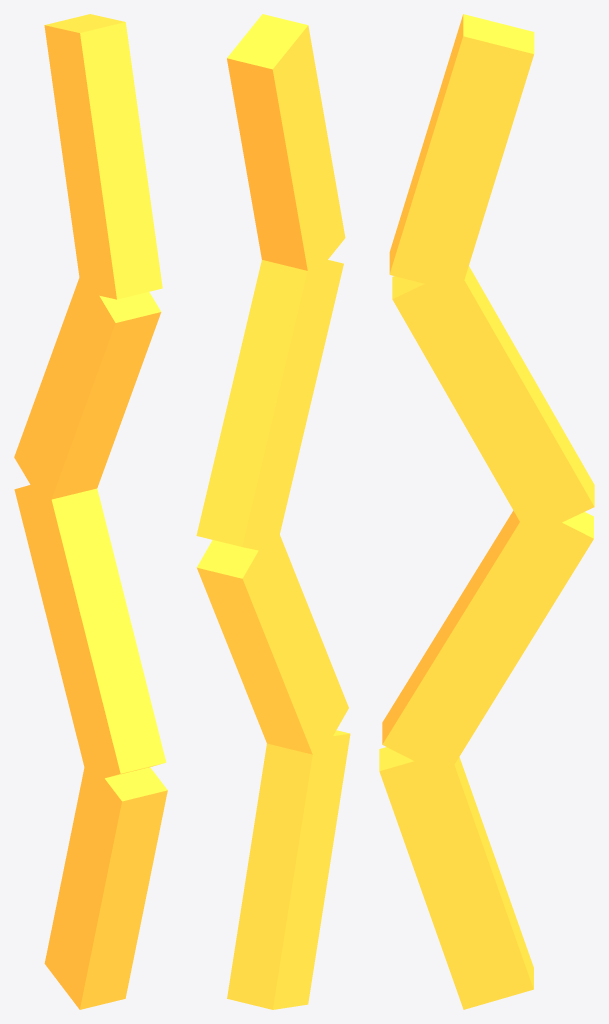
File: Facet_Section_3.glb
3 renders of one model, left to right at view 1: azimuth 30°, elevation 25°; view 2: azimuth 150°, elevation 25°; view 3: azimuth 270°, elevation 25°, orthographic.
Visible parts, largest first — view 1: Facet; view 2: Facet; view 3: Facet.
Part boxes in pixels (x1=…): Facet: x1=14, y1=14, x2=167, y2=1009; Facet: x1=196, y1=14, x2=350, y2=1009; Facet: x1=379, y1=14, x2=594, y2=1009.
Bounding box in the file's own units: 0.12 × 2.45 × 0.4905.
